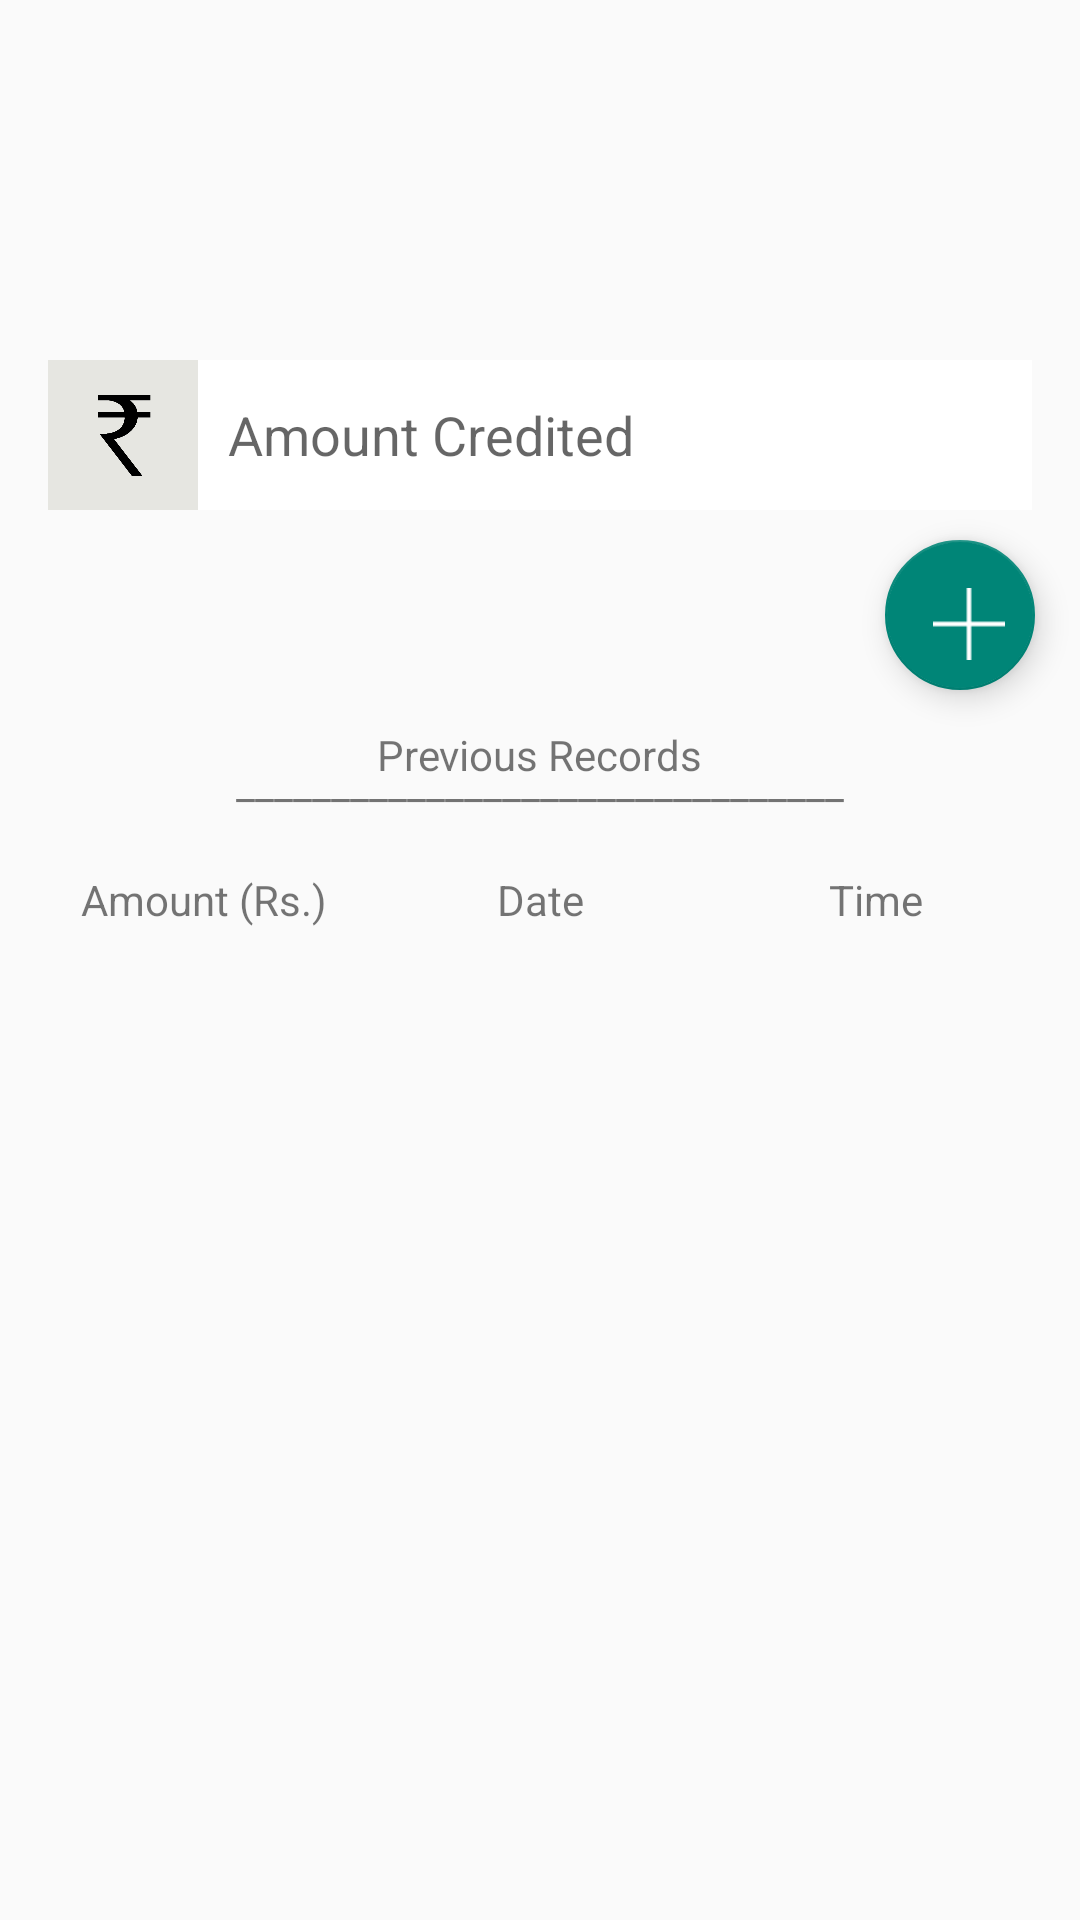

Screen size 1080px x 1920px. Icon name, then its center in pixels as point (x, y):
plus: point (960, 615)
rupeefonts: point (123, 435)
